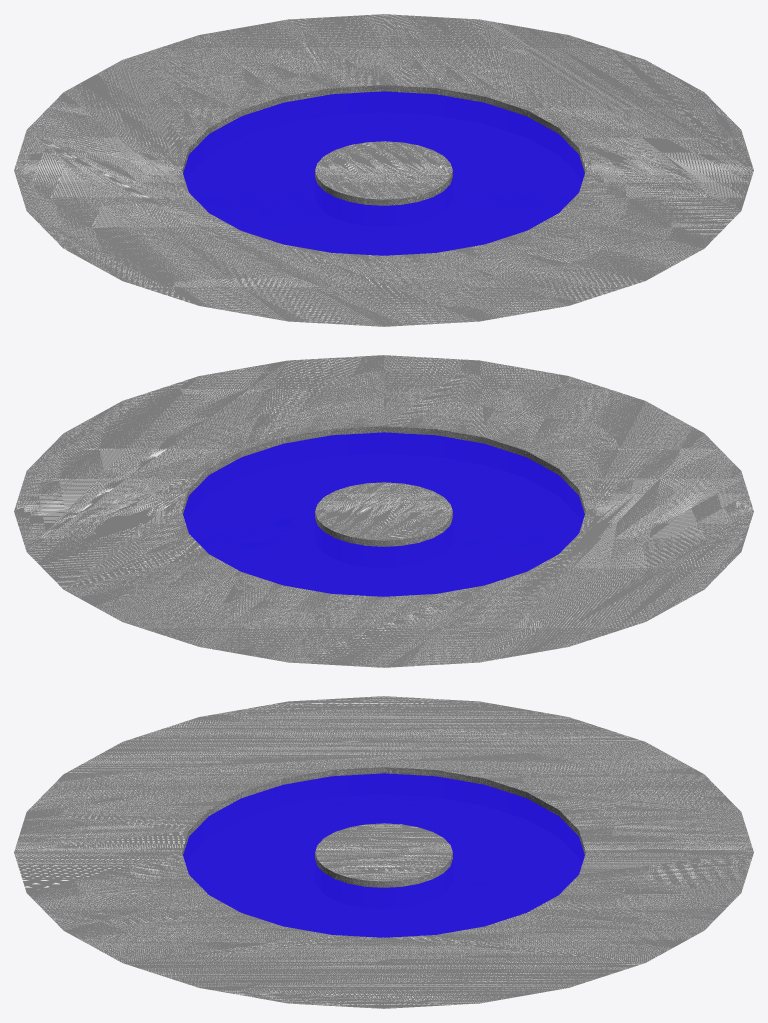
File: original-96.obj
3 views of the same model, one above another, from view 1: azimuth 30°, elevation 25°; view 2: azimuth 150°, elevation 25°; view 3: azimuth 270°, elevation 25° (orthographic).
Parts seen in each view (by area): view 1: mesh26/mesh26-geometry#mesh26-geometry; view 2: mesh26/mesh26-geometry#mesh26-geometry; view 3: mesh26/mesh26-geometry#mesh26-geometry.
Boxes of the visible parts, x1,y1,x2,y2 form: mesh26/mesh26-geometry#mesh26-geometry: [14, 14, 753, 326]; mesh26/mesh26-geometry#mesh26-geometry: [14, 355, 753, 667]; mesh26/mesh26-geometry#mesh26-geometry: [14, 696, 753, 1008].
Size of the model in its own units: 0.022 by 0.0009 by 0.022.
